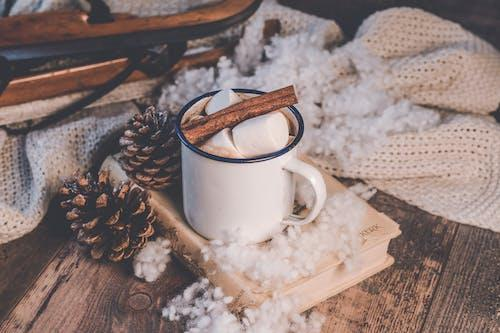Mug: (148, 63, 334, 244)
